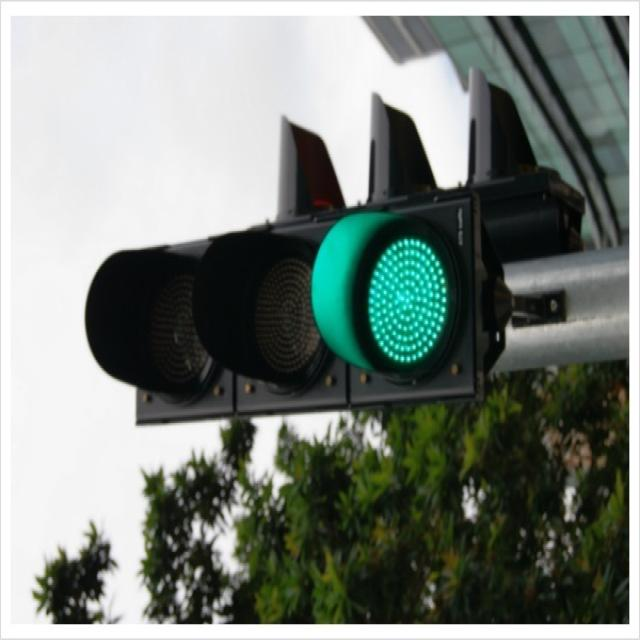Green Light: (346, 209, 452, 389)
